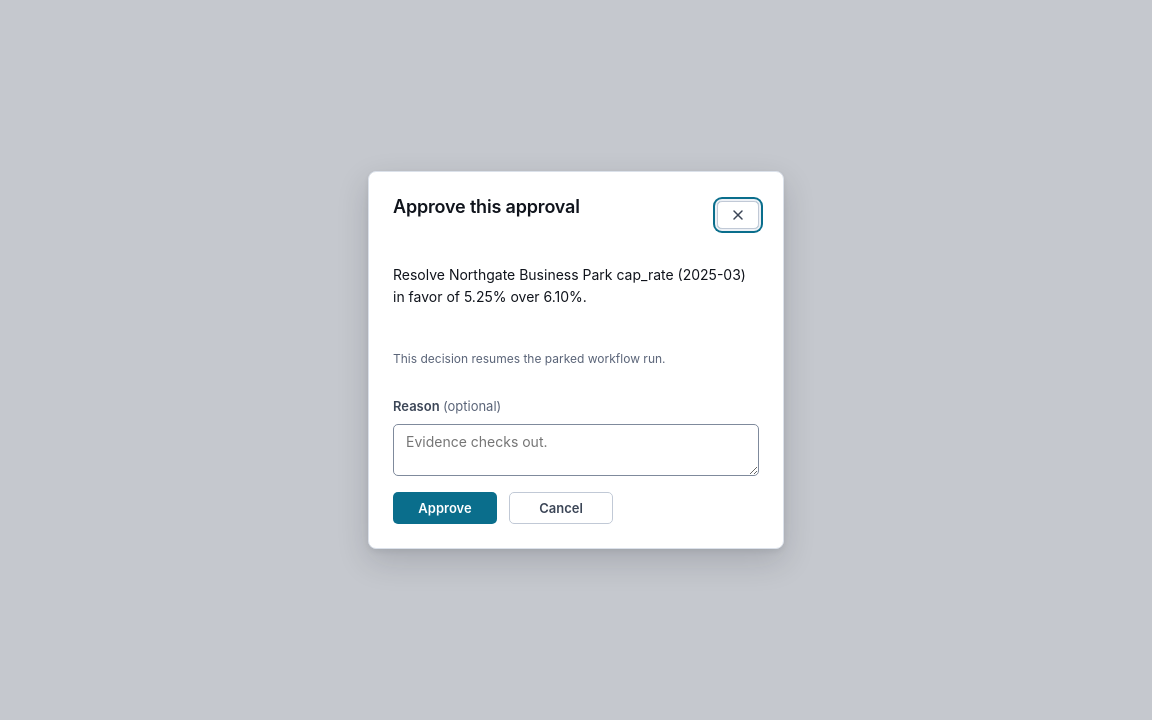
Test case: ApprovalDecisionDialog › shows the thrown error inline and leaves the dialog open on a failed confirm
Step 1. Click the button "Approve" → [445, 508], box [393, 492, 497, 524]
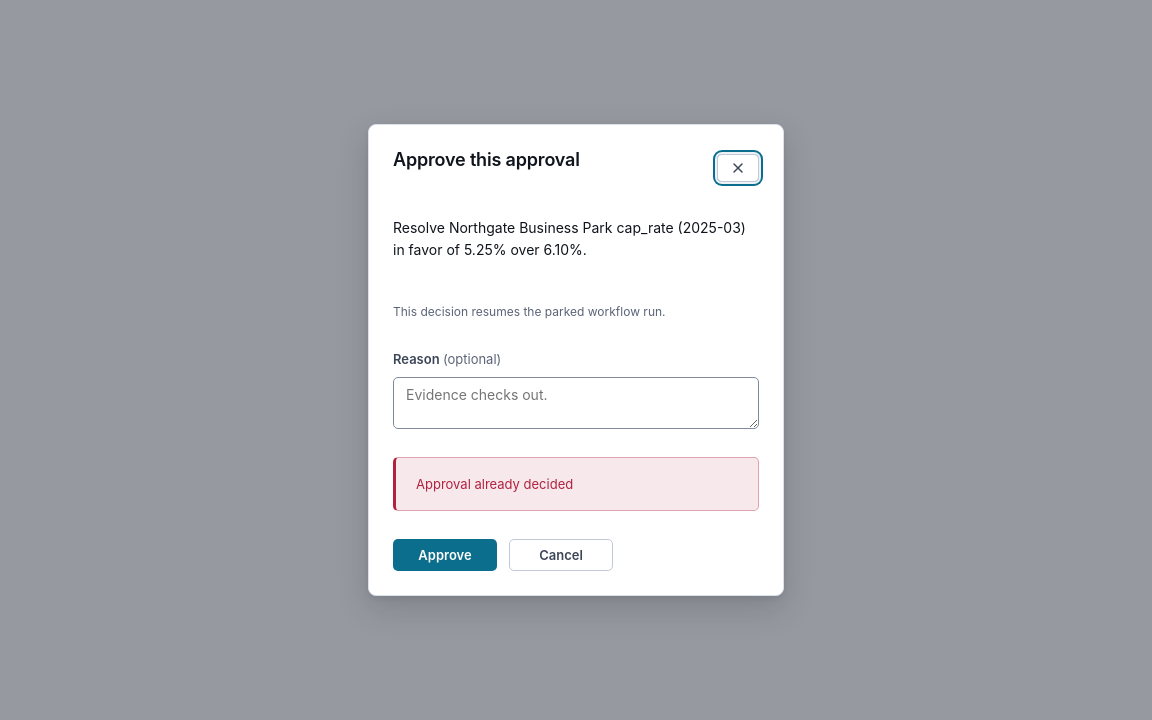
Expected: the dialog is shown, [368, 124, 784, 596]
Expected: the text "Approval already decided" is shown, [416, 476, 573, 492]
